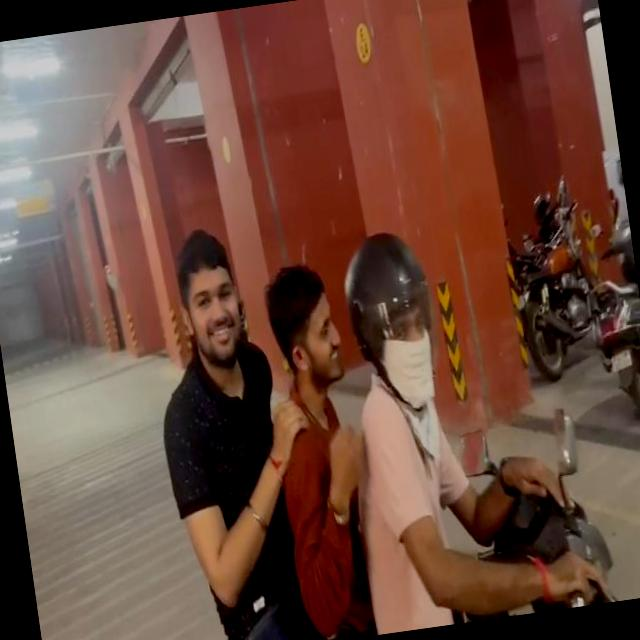motorcycle: (180, 400, 627, 640)
person: (325, 207, 634, 636), (123, 220, 332, 640), (249, 249, 388, 640)
rider_region: (133, 177, 622, 640)
